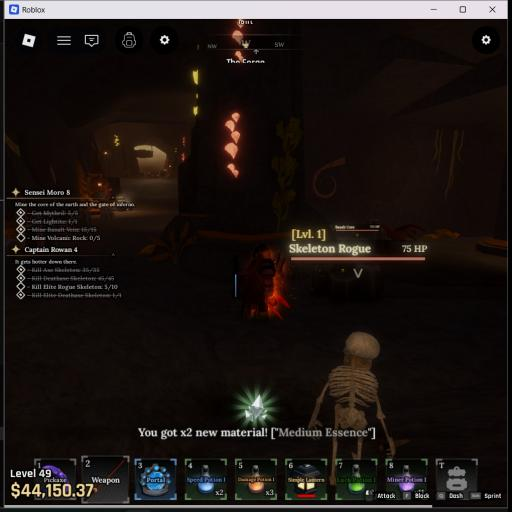player: (239, 246, 289, 318)
rock: (312, 228, 383, 301), (365, 219, 379, 228)
